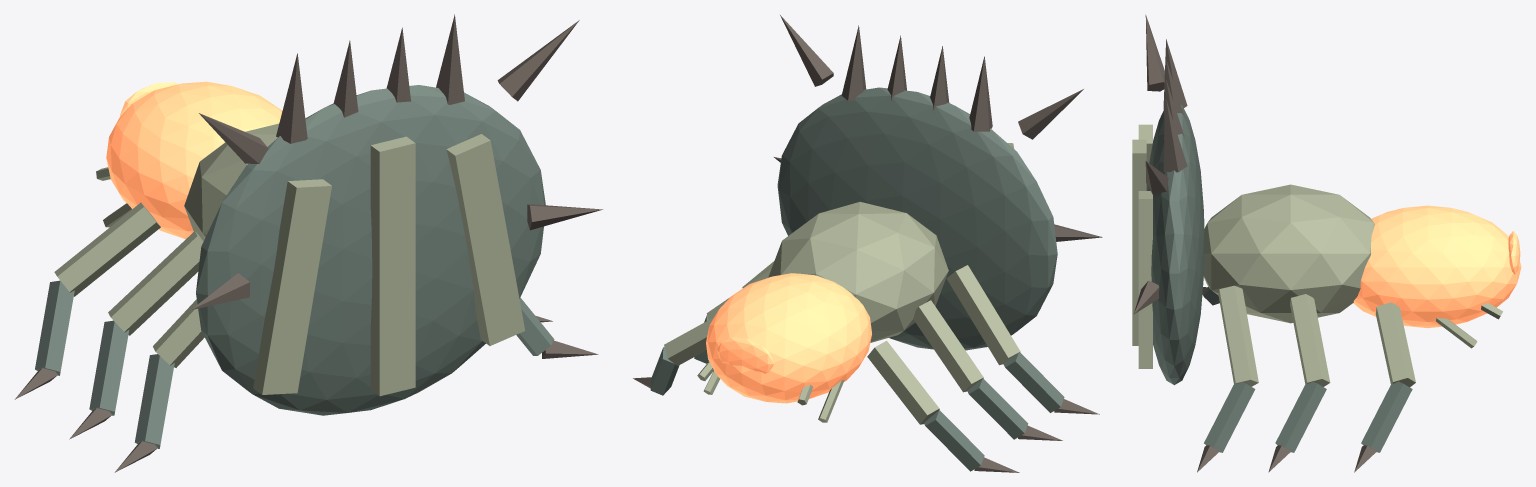
The model's file is 07_aegis_carapace.glb.
The picture shows the model from 3 angles, left to right: view 1: azimuth 30°, elevation 25°; view 2: azimuth 150°, elevation 25°; view 3: azimuth 270°, elevation 25°; orthographic projection. The views are drawn at different scales.
Parts seen in each view (by area): view 1: impenetrable_front_shell_riot_shield, exposed_rear_abdomen, central_shield_keel, angled_shield_side_plate_-1, angled_shield_side_plate_1, aegis_leg_upper_-1_1, aegis_leg_upper_-1_2, aegis_insect_thorax, aegis_leg_lower_-1_2, aegis_leg_lower_-1_1, aegis_leg_lower_-1_0, aegis_leg_upper_-1_0 (+9 smaller); view 2: impenetrable_front_shell_riot_shield, exposed_rear_abdomen, aegis_insect_thorax, aegis_leg_upper_-1_0, aegis_leg_upper_-1_1, aegis_leg_upper_-1_2, aegis_leg_lower_-1_0, aegis_leg_lower_-1_1, aegis_leg_lower_-1_2, rear_vulnerable_eye_spot, aegis_leg_upper_1_2, shield_top_ridge_spike_0 (+6 smaller); view 3: aegis_insect_thorax, exposed_rear_abdomen, impenetrable_front_shell_riot_shield, aegis_leg_upper_1_0, angled_shield_side_plate_1, aegis_leg_upper_1_1, aegis_leg_upper_1_2, central_shield_keel, aegis_leg_lower_1_1, aegis_leg_lower_1_2, aegis_leg_lower_1_0, shield_top_ridge_spike_3 (+6 smaller).
Part boxes in pixels (x1=…): impenetrable_front_shell_riot_shield: x1=196, y1=85, x2=545, y2=415; exposed_rear_abdomen: x1=106, y1=81, x2=282, y2=239; central_shield_keel: x1=370, y1=136, x2=415, y2=396; angled_shield_side_plate_-1: x1=253, y1=179, x2=331, y2=394; angled_shield_side_plate_1: x1=446, y1=134, x2=525, y2=345; aegis_leg_upper_-1_1: x1=108, y1=231, x2=203, y2=335; aegis_leg_upper_-1_2: x1=54, y1=202, x2=160, y2=296; aegis_insect_thorax: x1=184, y1=123, x2=279, y2=241; aegis_leg_lower_-1_2: x1=35, y1=280, x2=74, y2=375; aegis_leg_lower_-1_1: x1=89, y1=320, x2=129, y2=415; aegis_leg_lower_-1_0: x1=134, y1=354, x2=174, y2=448; aegis_leg_upper_-1_0: x1=153, y1=299, x2=204, y2=367; impenetrable_front_shell_riot_shield: x1=777, y1=87, x2=1057, y2=350; exposed_rear_abdomen: x1=706, y1=273, x2=871, y2=403; aegis_insect_thorax: x1=768, y1=202, x2=948, y2=342; aegis_leg_upper_-1_0: x1=946, y1=265, x2=1020, y2=365; aegis_leg_upper_-1_1: x1=913, y1=300, x2=983, y2=392; aegis_leg_upper_-1_2: x1=867, y1=340, x2=939, y2=424; aegis_leg_lower_-1_0: x1=1003, y1=352, x2=1064, y2=412; aegis_leg_lower_-1_1: x1=967, y1=379, x2=1028, y2=439; aegis_leg_lower_-1_2: x1=924, y1=410, x2=984, y2=471; rear_vulnerable_eye_spot: x1=717, y1=337, x2=773, y2=373; aegis_leg_upper_1_2: x1=664, y1=317, x2=714, y2=365; shield_top_ridge_spike_0: x1=969, y1=56, x2=992, y2=131; aegis_insect_thorax: x1=1203, y1=184, x2=1374, y2=323; exposed_rear_abdomen: x1=1353, y1=205, x2=1521, y2=328; impenetrable_front_shell_riot_shield: x1=1146, y1=105, x2=1204, y2=385; aegis_leg_upper_1_0: x1=1218, y1=285, x2=1258, y2=386; angled_shield_side_plate_1: x1=1138, y1=191, x2=1152, y2=368; aegis_leg_upper_1_1: x1=1290, y1=294, x2=1330, y2=386; aegis_leg_upper_1_2: x1=1375, y1=302, x2=1415, y2=387; central_shield_keel: x1=1132, y1=139, x2=1146, y2=345; aegis_leg_lower_1_1: x1=1275, y1=382, x2=1326, y2=452; aegis_leg_lower_1_2: x1=1361, y1=381, x2=1412, y2=452; aegis_leg_lower_1_0: x1=1204, y1=382, x2=1255, y2=452; shield_top_ridge_spike_3: x1=1163, y1=99, x2=1187, y2=172.
Bounding box in the file's own units: 2.16 × 1.68 × 1.91.
